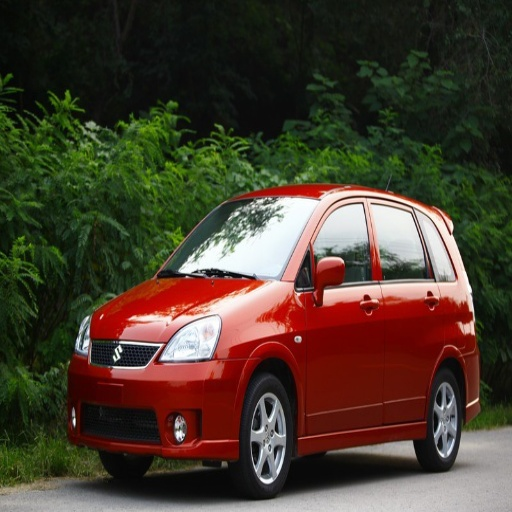front_bumper: (70, 337, 244, 457)
front_glass: (158, 196, 317, 277)
front_left_door: (295, 196, 384, 435)
